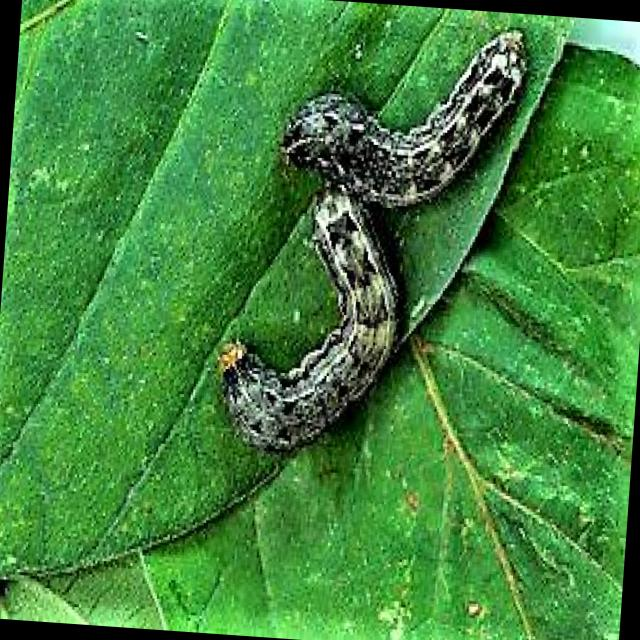Armyworm: (197, 162, 431, 506), (246, 2, 547, 216)
